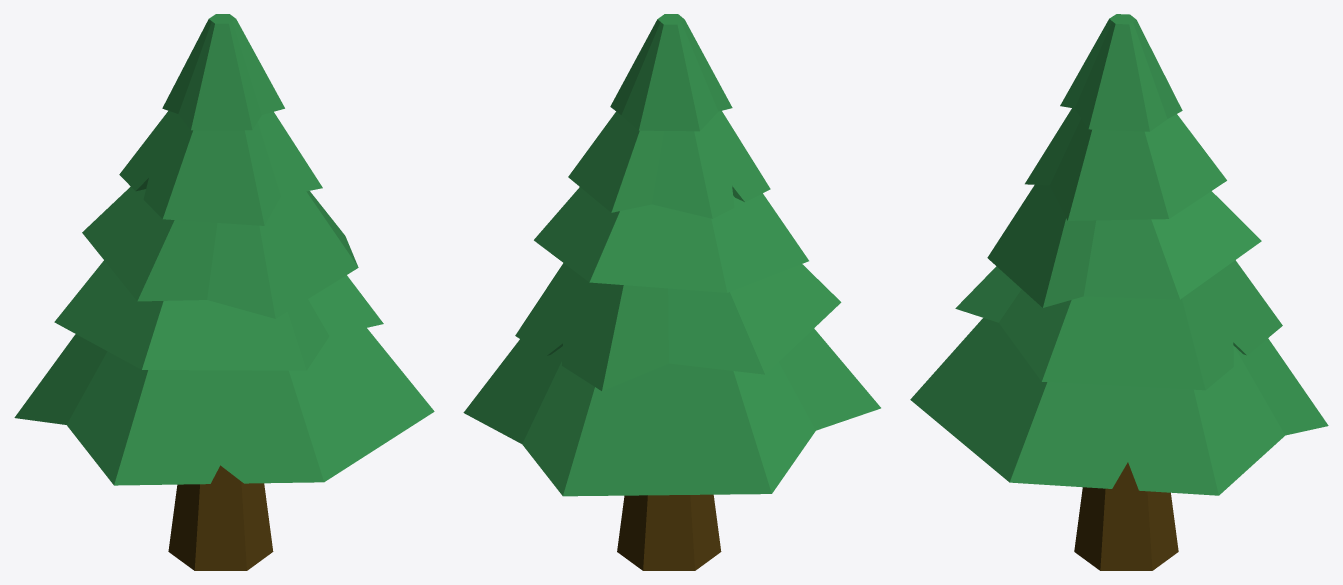
Rendered from strom.glb.
The picture shows the model from 3 angles, left to right: view 1: azimuth 30°, elevation 25°; view 2: azimuth 150°, elevation 25°; view 3: azimuth 270°, elevation 25°; orthographic projection.
Visible parts, largest first — view 1: Base, Leaves; view 2: Base, Leaves; view 3: Base, Leaves.
Part boxes in pixels (bbox=[...]): Base: bbox=[14, 14, 434, 485]; Leaves: bbox=[168, 465, 273, 570]; Base: bbox=[463, 14, 880, 496]; Leaves: bbox=[617, 494, 721, 570]; Base: bbox=[910, 14, 1328, 495]; Leaves: bbox=[1074, 462, 1178, 570].
Bounding box in the file's own units: 3.89 × 6.2 × 4.41.
